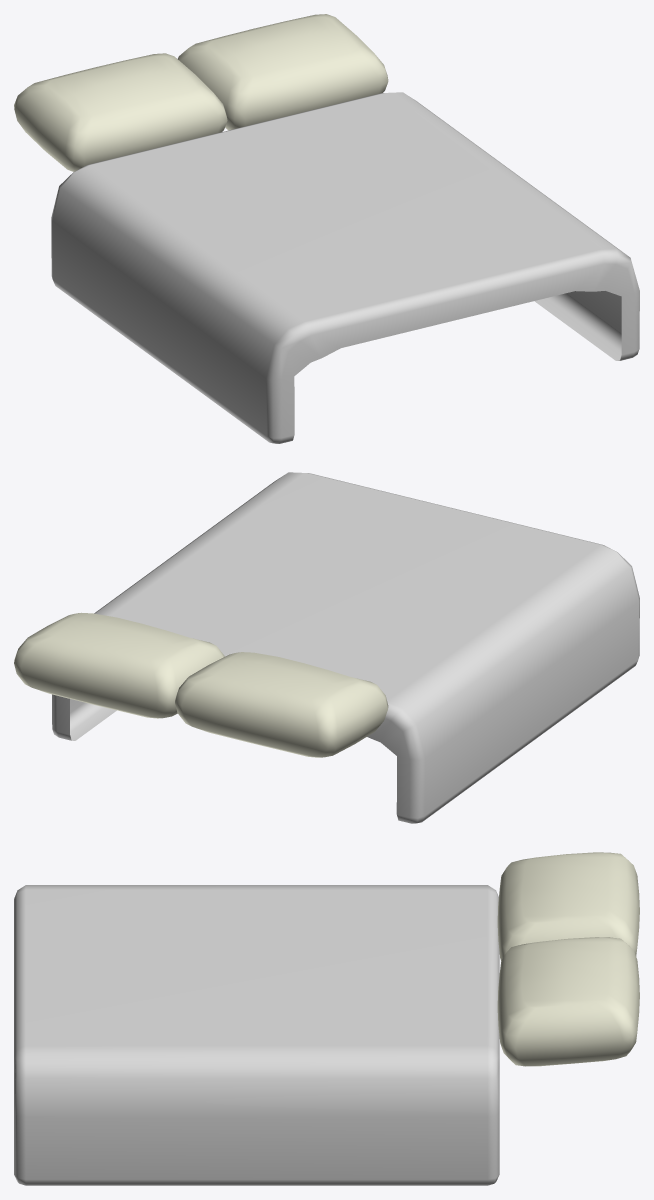
File: Cover2.fbx
3 renders of one model, top to bottom at view 1: azimuth 30°, elevation 25°; view 2: azimuth 150°, elevation 25°; view 3: azimuth 270°, elevation 25°, orthographic. The views are drawn at different scales.
Visible parts, largest first — view 1: Cover2; view 2: Cover2; view 3: Cover2.
Part boxes in pixels (x1=…): Cover2: x1=14, y1=14, x2=639, y2=443; Cover2: x1=14, y1=472, x2=639, y2=823; Cover2: x1=14, y1=852, x2=639, y2=1185.
Size of the model in its own units: 1.48 by 0.6006 by 1.99.
